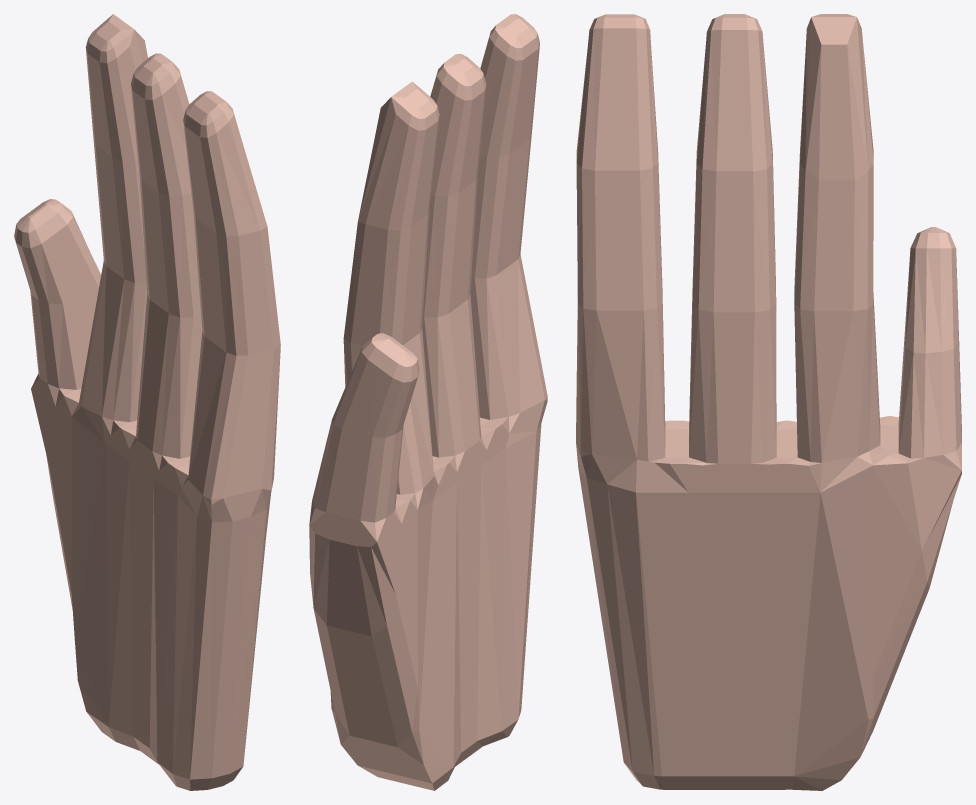
File: palmStrike.fbx
The picture shows the model from 3 angles, left to right: view 1: azimuth 30°, elevation 25°; view 2: azimuth 150°, elevation 25°; view 3: azimuth 270°, elevation 25°; orthographic projection. The views are drawn at different scales.
Visible parts, largest first — view 1: Cube.001; view 2: Cube.001; view 3: Cube.001.
Boxes of the visible parts, x1,y1,x2,y2 form: Cube.001: [14, 14, 280, 790]; Cube.001: [309, 14, 547, 790]; Cube.001: [576, 14, 961, 790].
Size of the model in its own units: 766 by 288 by 1677.
